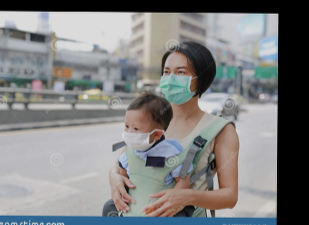with_mask: (157, 63, 196, 106), (119, 119, 154, 151)
